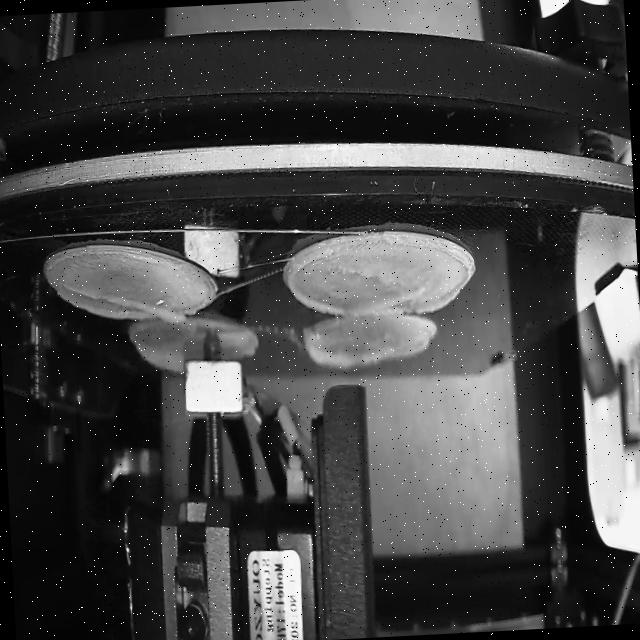over_extrusion: (65, 272, 190, 329), (284, 250, 352, 320), (353, 281, 462, 321), (304, 332, 379, 374), (137, 344, 184, 377), (392, 337, 429, 362)
